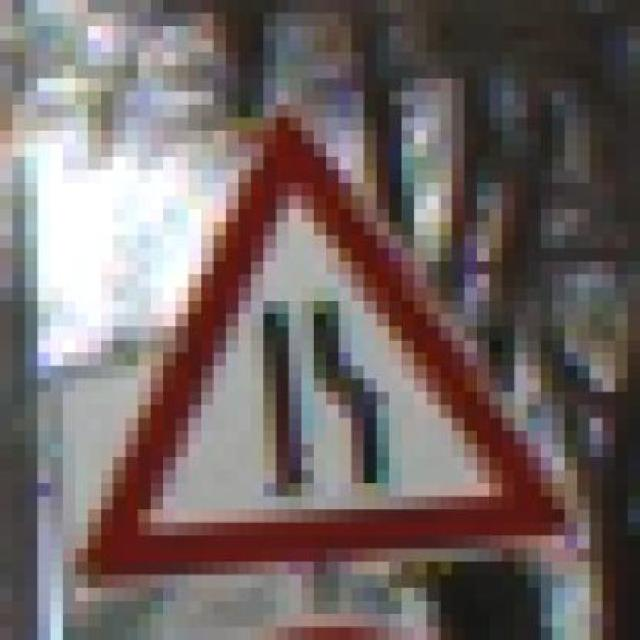-Road narrows on right: (62, 91, 578, 574)
